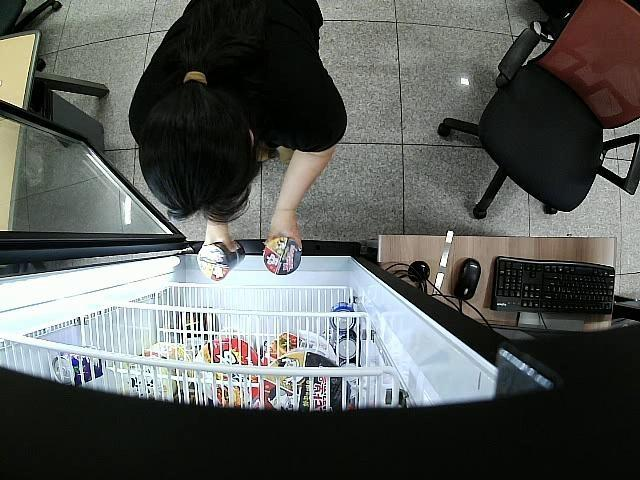08_buldak_S: (198, 240, 246, 280), (263, 237, 301, 274)
